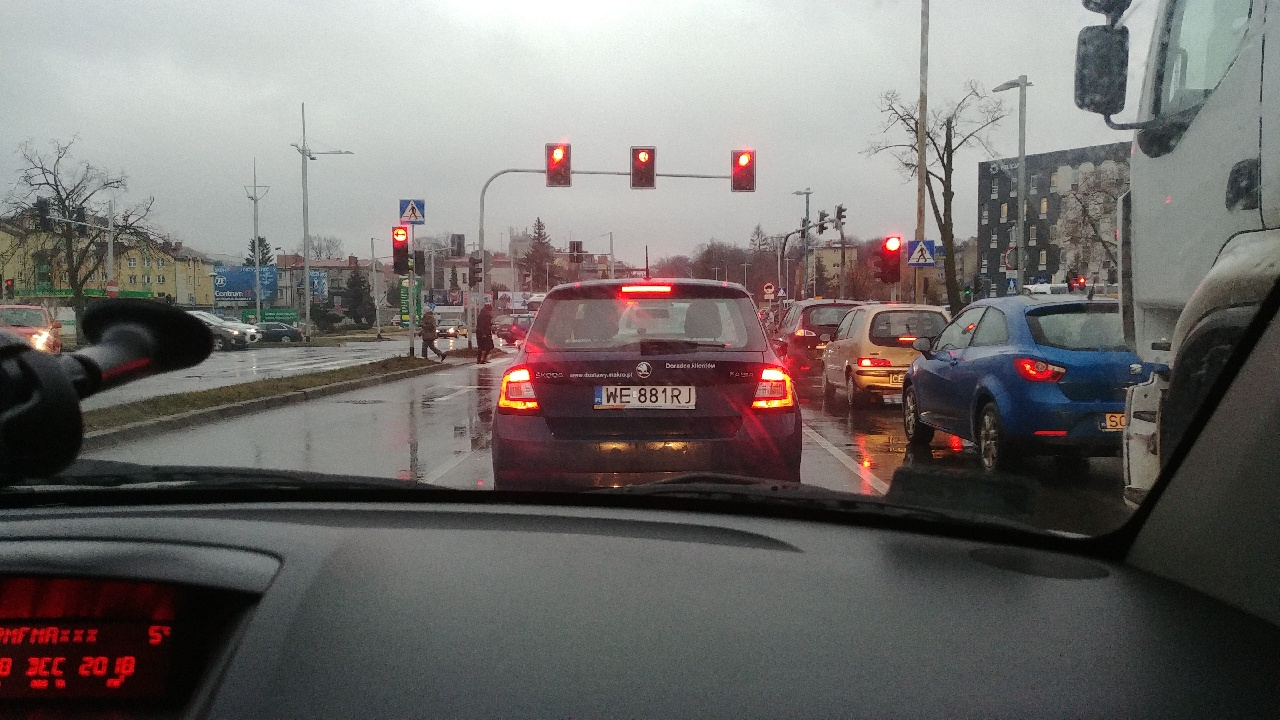D6: (393, 197, 433, 229), (909, 236, 939, 267)
